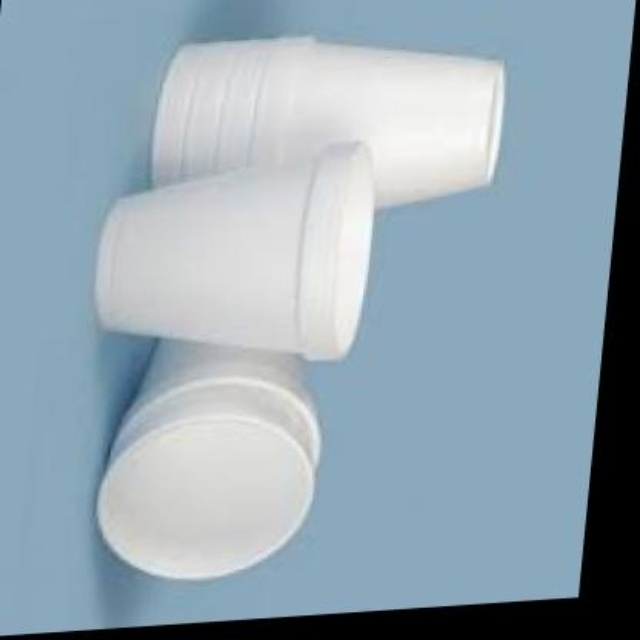trash: (95, 38, 503, 578), (95, 142, 372, 358), (152, 37, 503, 205), (98, 342, 318, 578)
